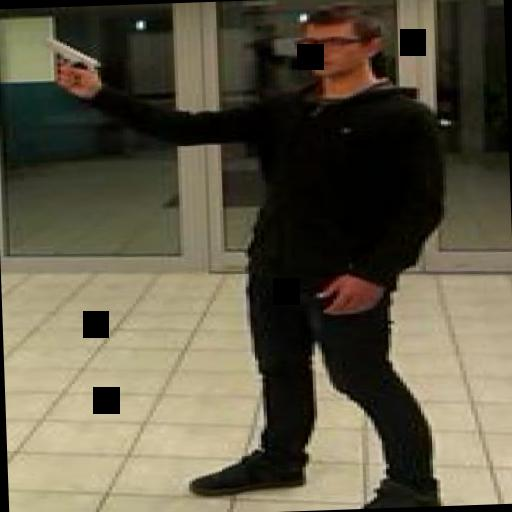Handgun: (29, 28, 98, 99)
